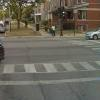Crosswalk: (3, 57, 100, 91)
